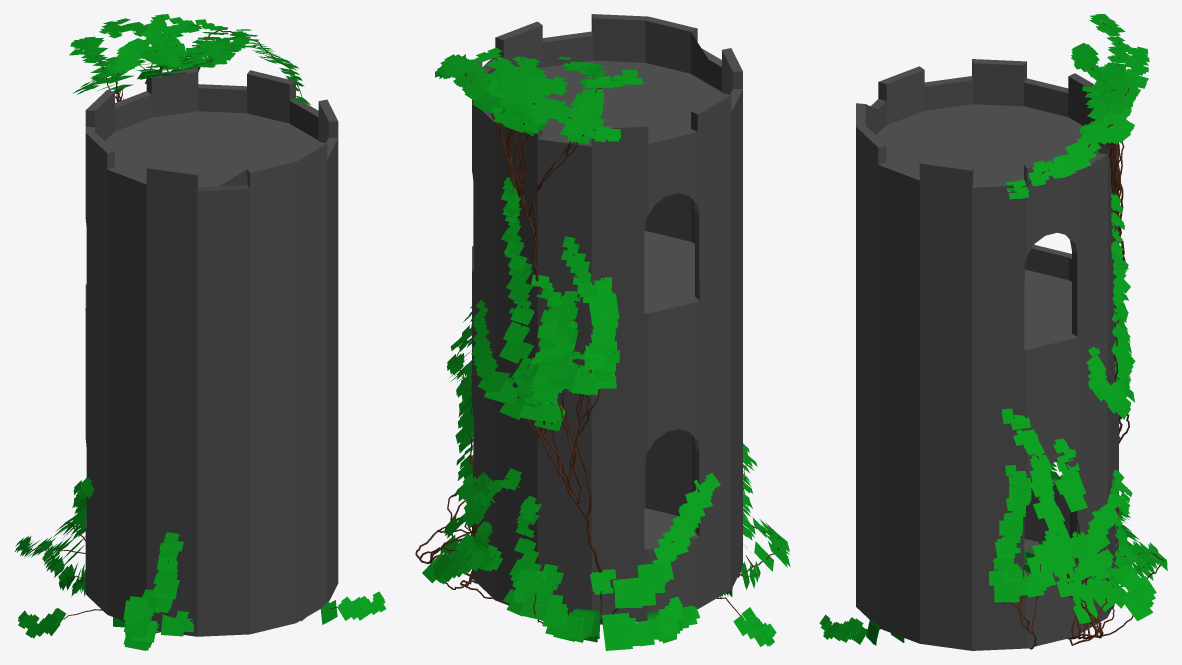
File: tower.fbx
3 renders of one model, left to right at view 1: azimuth 30°, elevation 25°; view 2: azimuth 150°, elevation 25°; view 3: azimuth 270°, elevation 25°, orthographic. The views are drawn at different scales.
Parts seen in each view (by area): view 1: Cylinder, Circle, IvyLeaf.002, IvyLeaf.001; view 2: Cylinder, IvyLeaf.002, IvyLeaf, IvyLeaf.001, Circle, Circle.001, IVY_Curve, IVY_Curve.001, IVY_Curve.002; view 3: Cylinder, IvyLeaf.002, Circle, IvyLeaf.001, IvyLeaf, Circle.001, IVY_Curve.002, IVY_Curve.001.
Part boxes in pixels (bbox=[...]): Cylinder: bbox=[85, 68, 338, 636]; Circle: bbox=[105, 111, 319, 187]; IvyLeaf.002: bbox=[15, 477, 386, 650]; IvyLeaf.001: bbox=[69, 14, 310, 104]; Cylinder: bbox=[472, 14, 742, 623]; IvyLeaf.002: bbox=[422, 306, 790, 650]; IvyLeaf: bbox=[471, 177, 619, 430]; IvyLeaf.001: bbox=[435, 47, 643, 143]; Circle: bbox=[508, 60, 721, 141]; Circle.001: bbox=[644, 230, 694, 309]; IVY_Curve: bbox=[484, 179, 615, 572]; IVY_Curve.001: bbox=[464, 57, 613, 290]; IVY_Curve.002: bbox=[415, 324, 778, 624]; Cylinder: bbox=[856, 59, 1118, 650]; IvyLeaf.002: bbox=[819, 408, 1167, 645]; Circle: bbox=[876, 104, 1098, 183]; IvyLeaf.001: bbox=[1006, 14, 1149, 199]; IvyLeaf: bbox=[1086, 192, 1135, 419]; Circle.001: bbox=[1024, 269, 1071, 345]; IVY_Curve.002: bbox=[827, 417, 1164, 649]; IVY_Curve.001: bbox=[1011, 21, 1129, 261].
Size of the model in its own units: 68.04 by 116 by 64.93.
